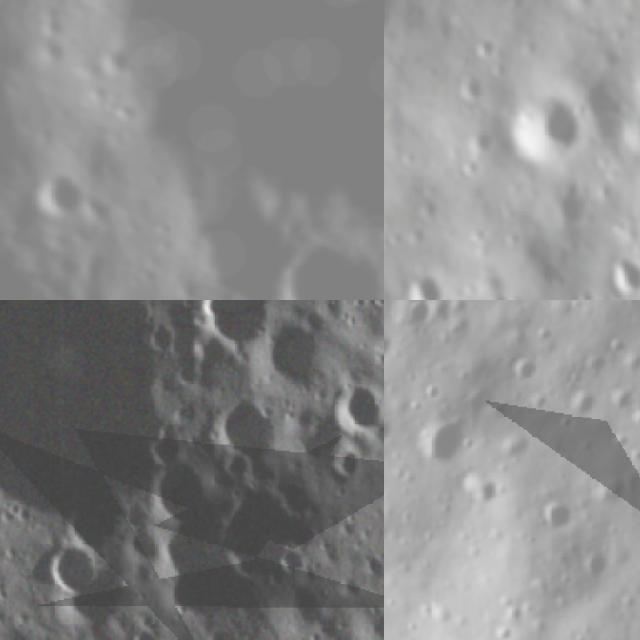crater: (69, 0, 384, 233), (0, 300, 172, 533), (254, 306, 330, 400), (509, 80, 589, 166), (262, 243, 381, 300), (210, 383, 287, 468), (148, 452, 228, 532), (33, 528, 104, 603), (196, 300, 276, 358), (332, 365, 384, 445), (31, 169, 88, 225), (537, 175, 592, 232), (0, 231, 42, 300), (413, 423, 468, 466), (322, 442, 372, 486), (602, 248, 640, 300), (403, 264, 454, 300), (503, 346, 545, 389), (458, 68, 496, 105), (544, 495, 578, 534), (399, 300, 441, 331), (618, 101, 640, 154), (465, 124, 498, 158), (100, 50, 140, 78), (203, 615, 243, 640), (608, 386, 636, 415), (630, 410, 640, 436)
